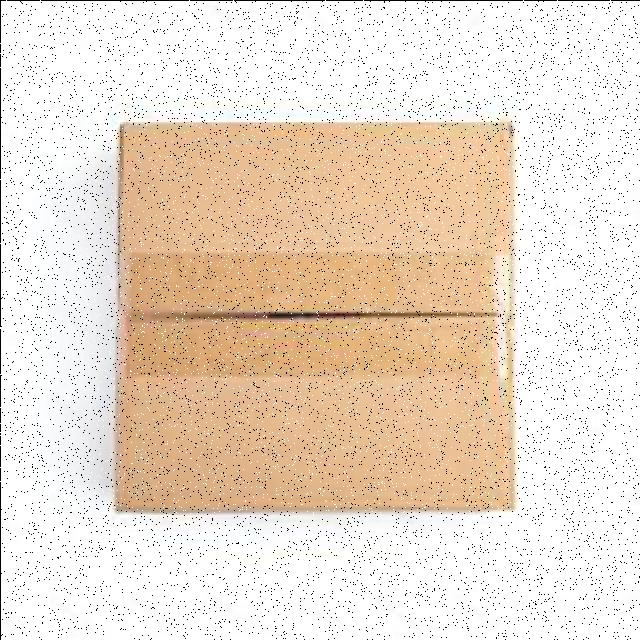normal: (102, 110, 524, 528)
